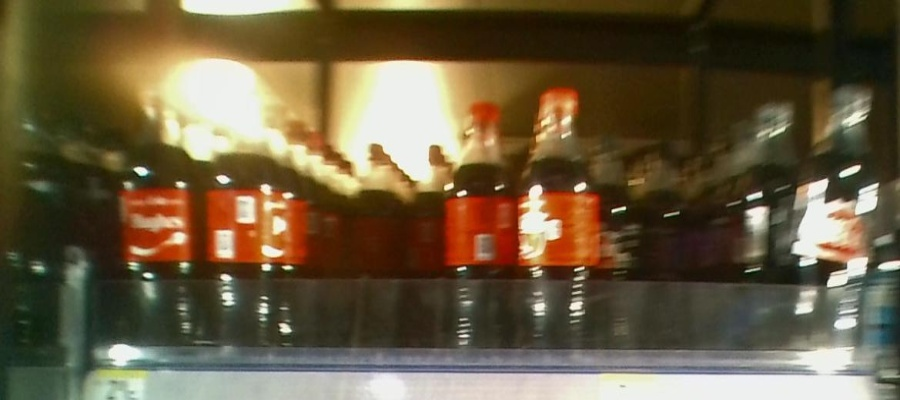bottle: (797, 86, 880, 346), (521, 62, 593, 360), (201, 94, 277, 357), (123, 84, 196, 354), (448, 86, 515, 363), (348, 124, 400, 331), (405, 127, 445, 338)
